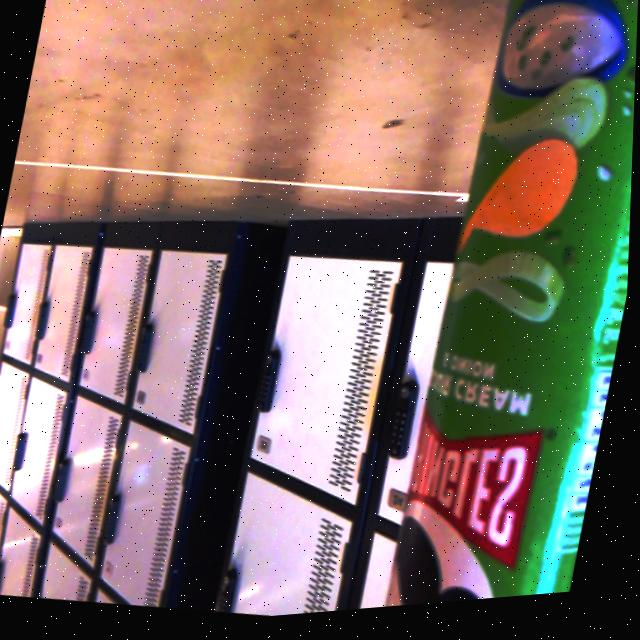greenpringles: (344, 0, 639, 617)
